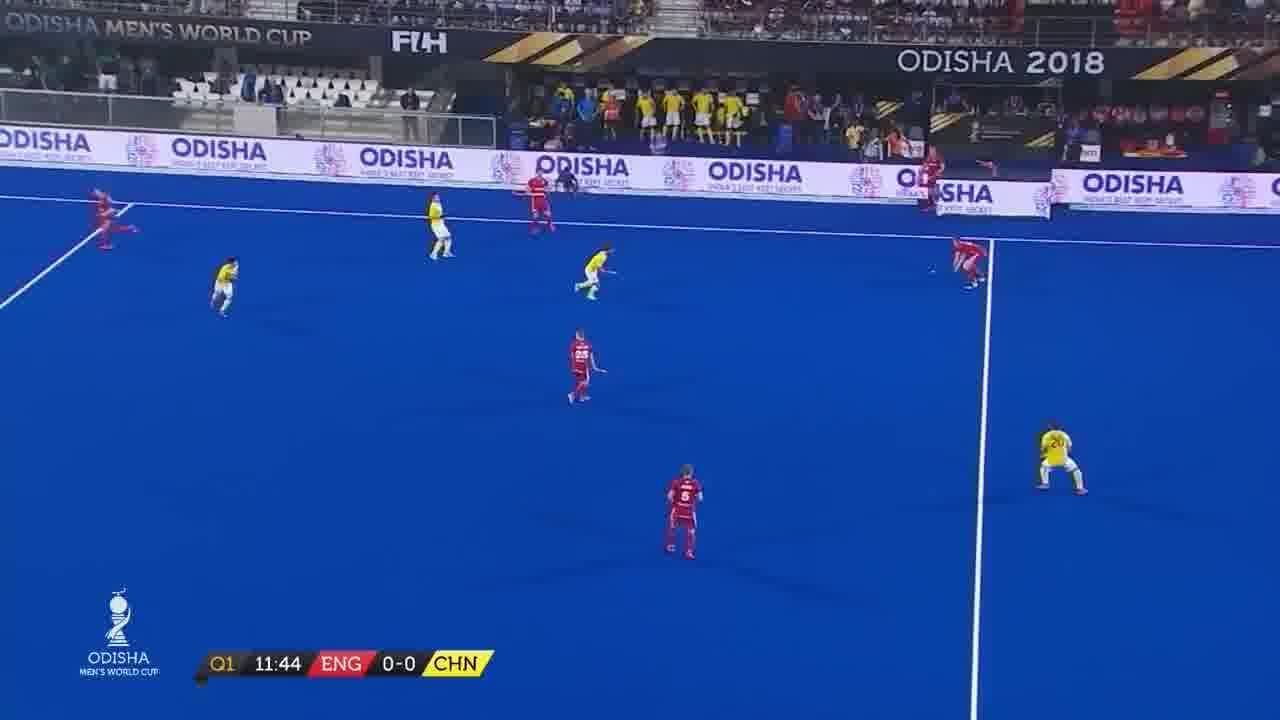ball: (922, 260, 942, 284)
